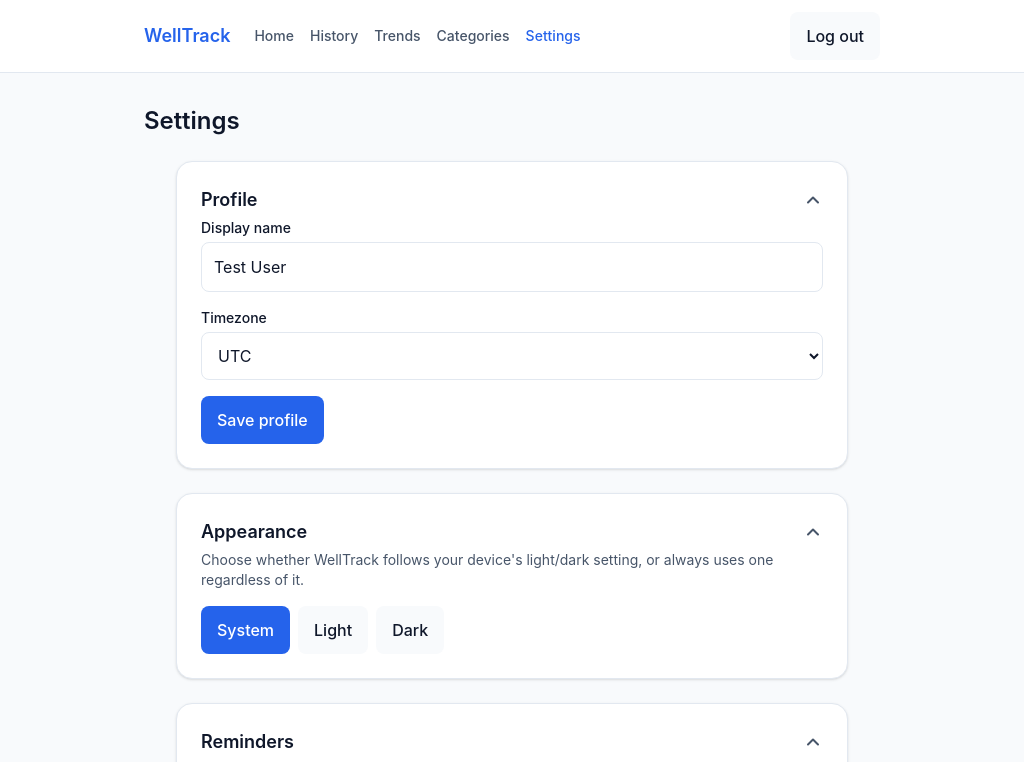
Test: SettingsPage — profile › saves profile changes and shows a confirmation
Replace the text in the field labelled "Display name" with "New Name": (512,267) [201,242,823,292]
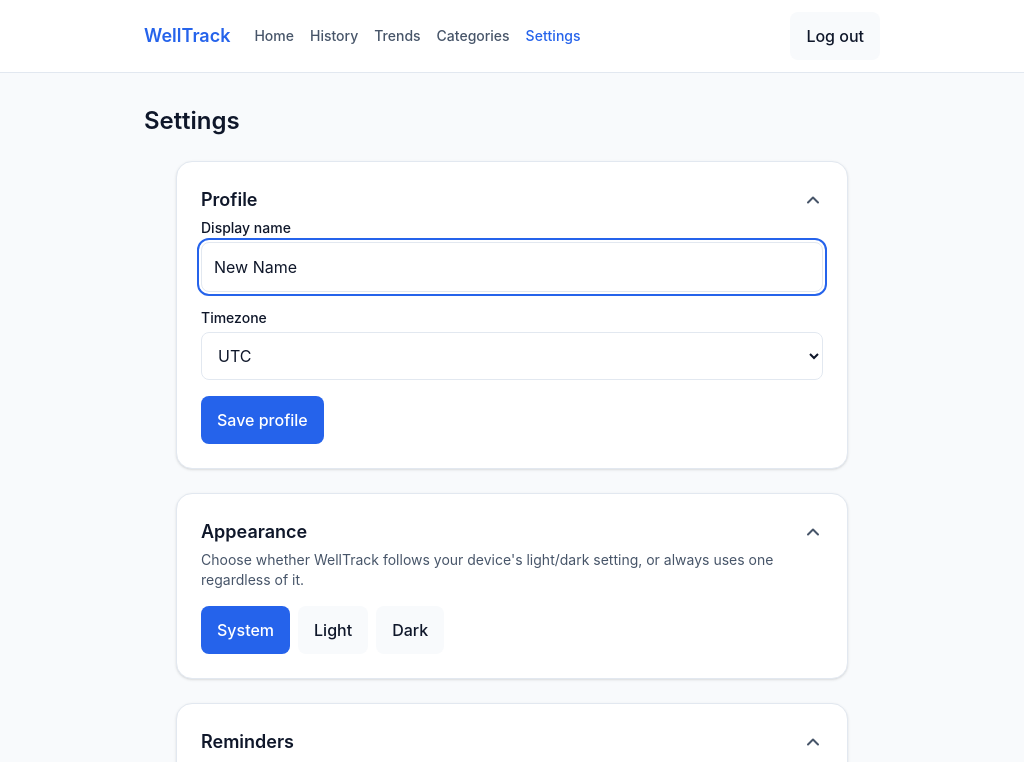
Select "America/Los_Angeles" in the dropdown labelled "Timezone": (512,356) [201,332,823,380]
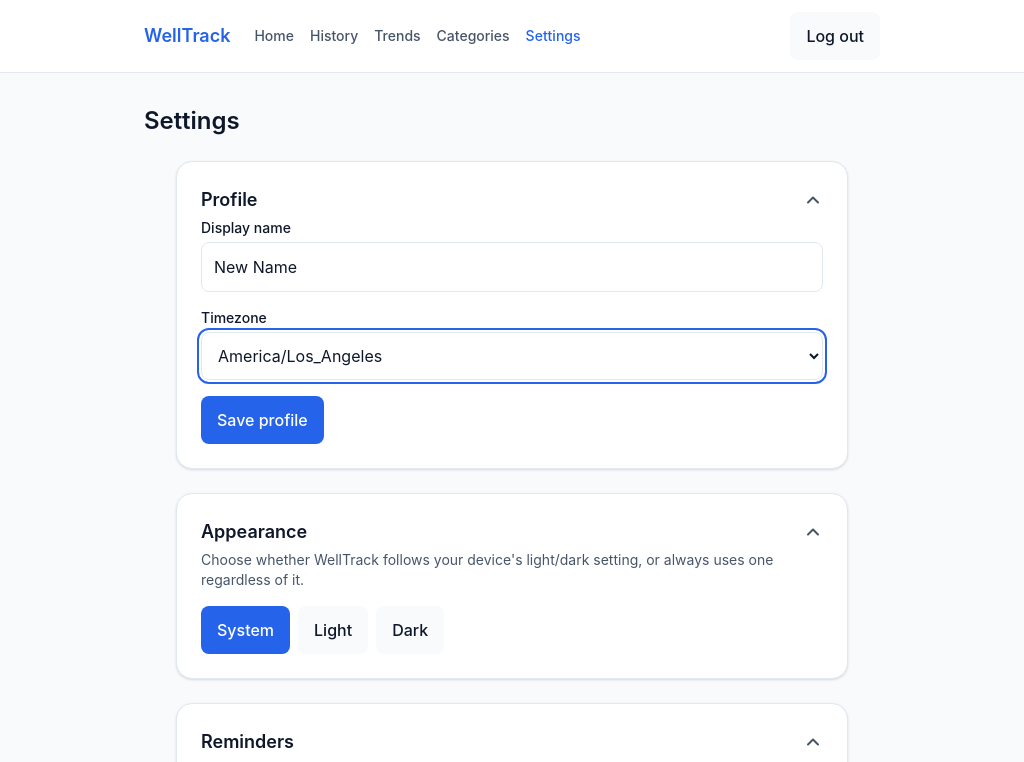
Click the button "Save profile": (262,420) [201,396,324,444]
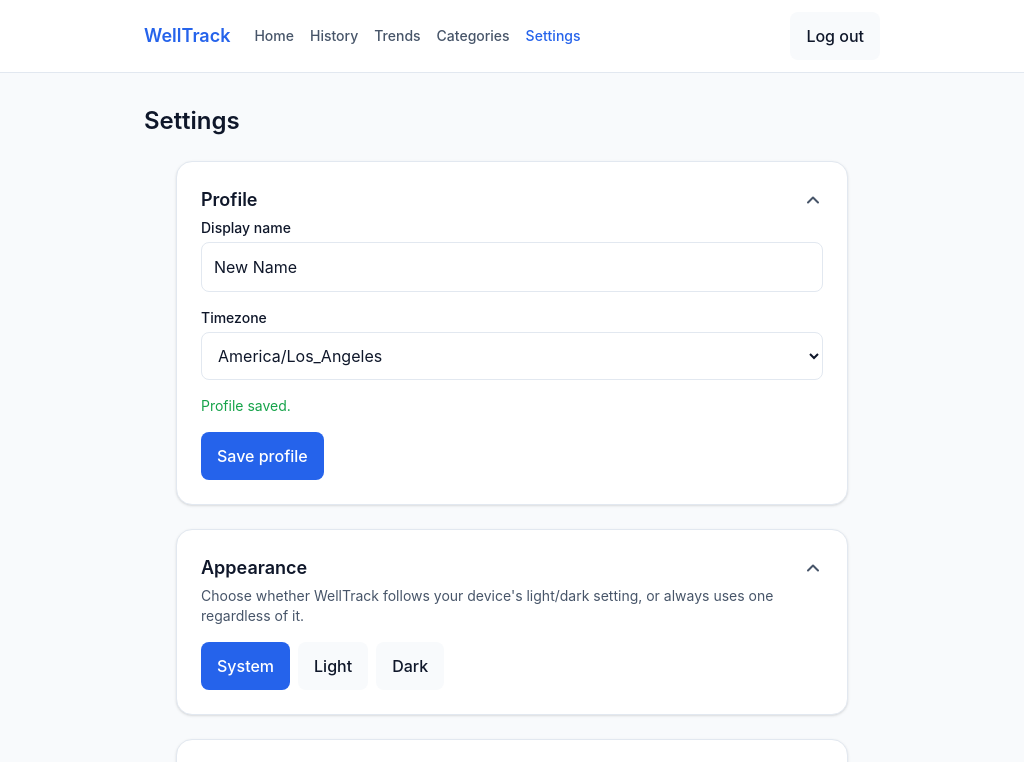
Result: the text "Profile saved." is shown at [201,397,291,414]
